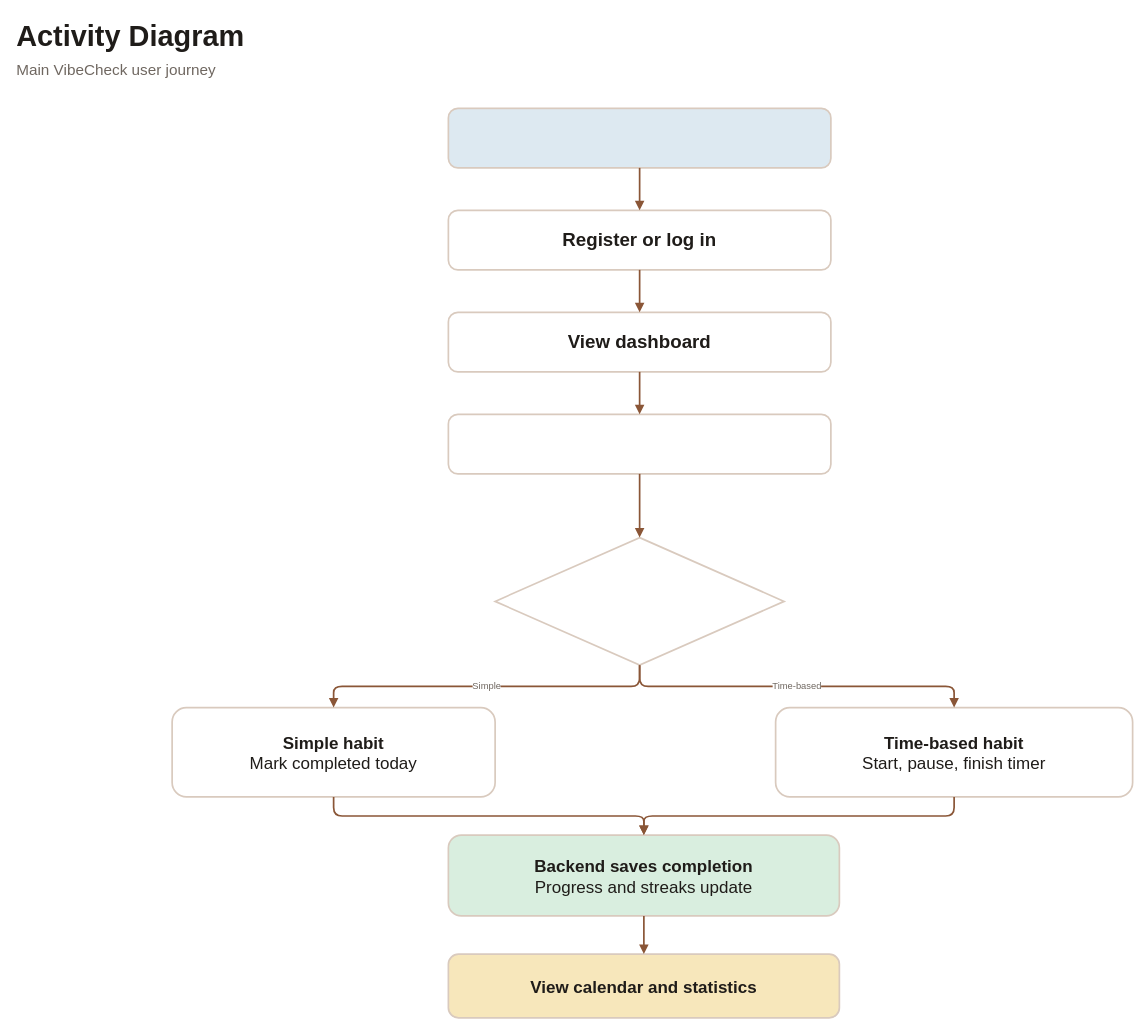
Some shapes in this 1148 by 1033 pixel diagram are drawn without their labels. Each missing label, with the centre of its shape:
"Create or choose habit" goes at (639,443).
"Goal type?" goes at (639,601).
"Open VibeCheck" goes at (639,137).
